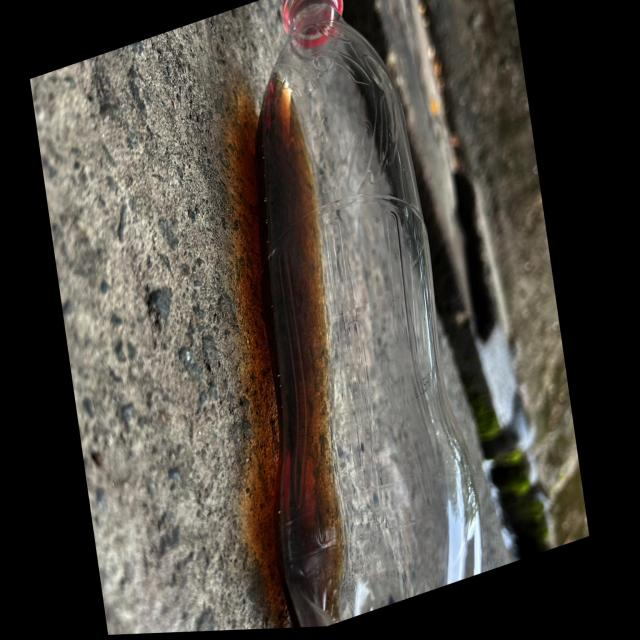low: (256, 0, 482, 625)
